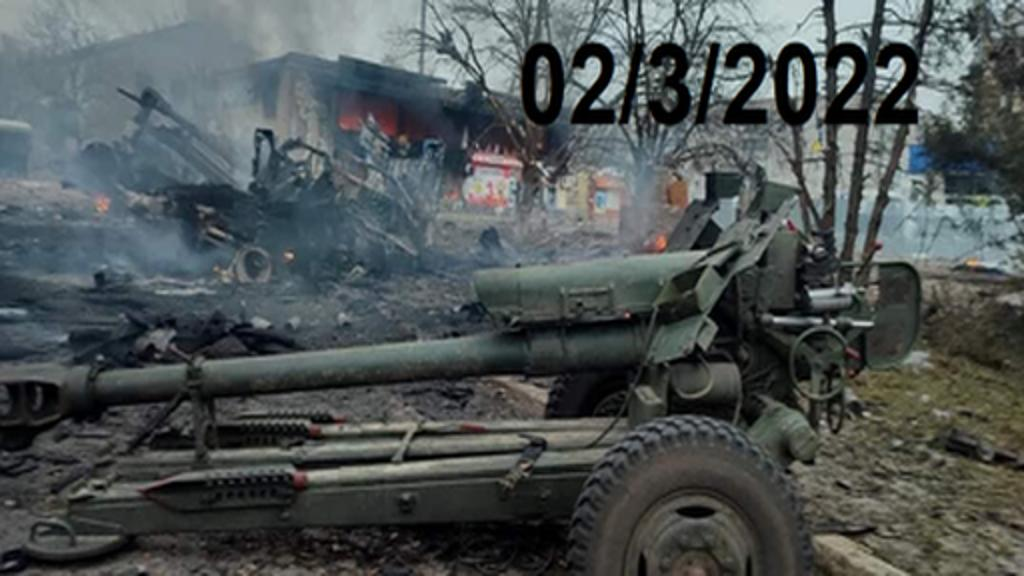ART: (2, 170, 920, 556)
